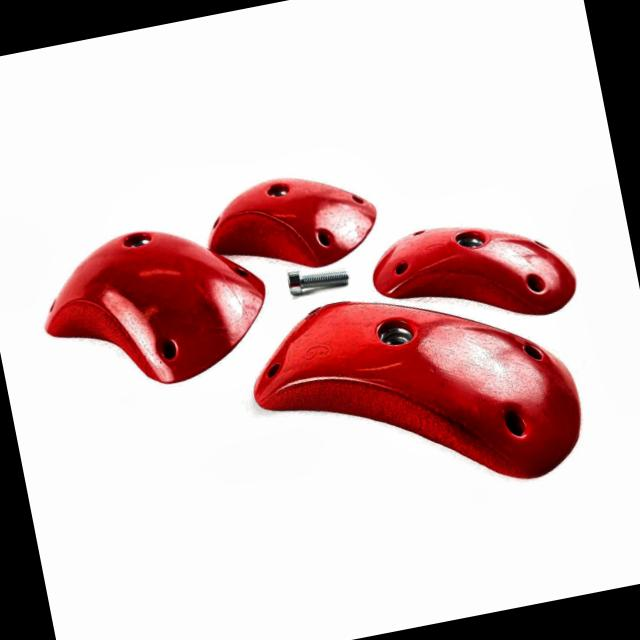Hold: (240, 265, 596, 529), (34, 206, 276, 403), (368, 202, 584, 341), (198, 157, 387, 284)
